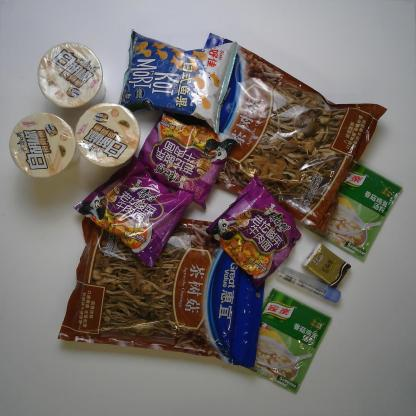Dried Food: (166, 31, 389, 234), (57, 211, 266, 370)
Instant Noodles: (71, 152, 198, 268), (203, 172, 303, 286), (136, 108, 238, 210), (36, 42, 107, 112), (8, 111, 78, 180), (74, 101, 142, 169)
Puffed Food: (117, 27, 240, 136)
Seasoner: (303, 158, 404, 262), (239, 287, 332, 395)
Stationery: (276, 262, 342, 304)
Tissue: (301, 242, 353, 288)
